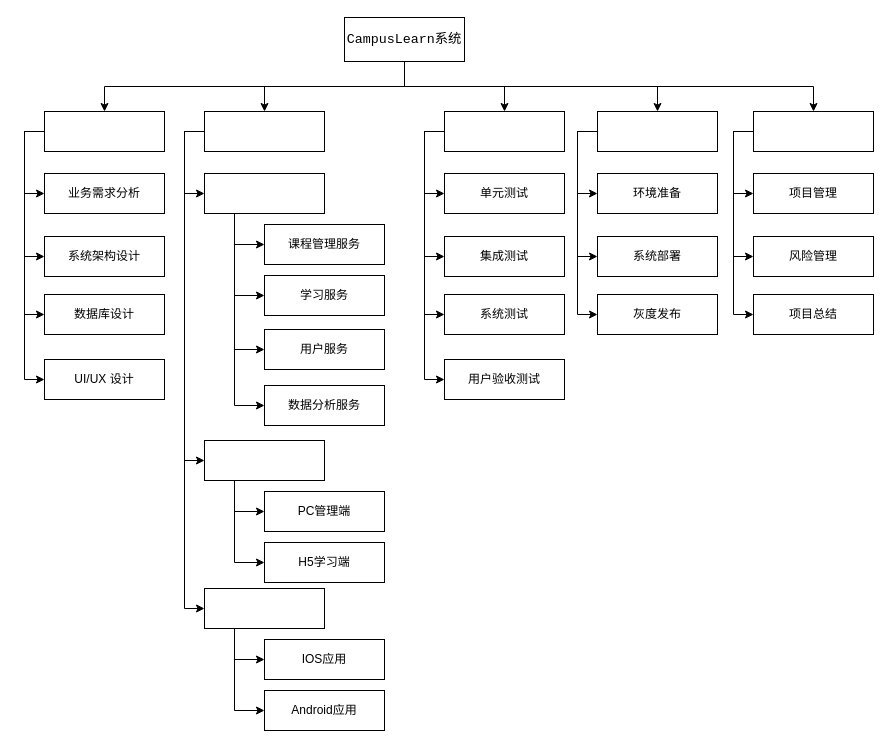
Some shapes in this 891 by 748 pixel diagram are drawn without their labels. Here are the shapes that lost their labels. From the top down, the centre of each, then its label:
point (104, 131): 需求分析与设计
point (264, 131): 系统开发
point (504, 131): 测试与验收
point (657, 131): 部署与上线
point (813, 131): 项目管理与收尾
point (264, 193): 后端开发
point (264, 460): 前端开发
point (264, 608): 移动开发
